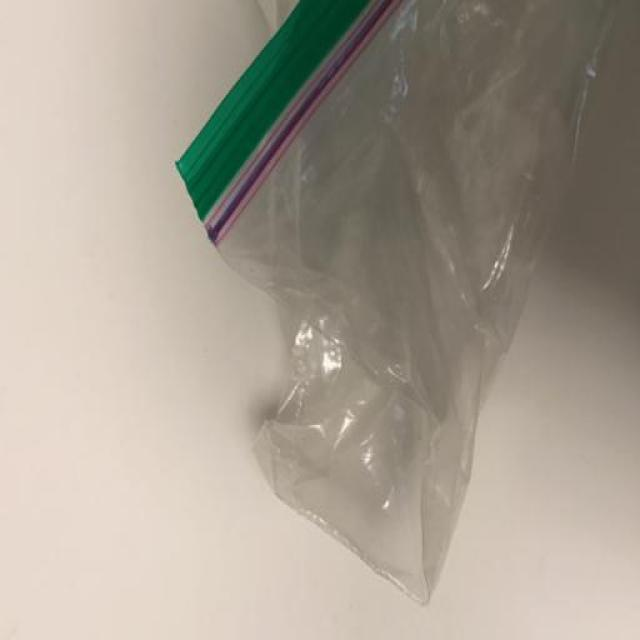Random Trash: (178, 0, 616, 605)
